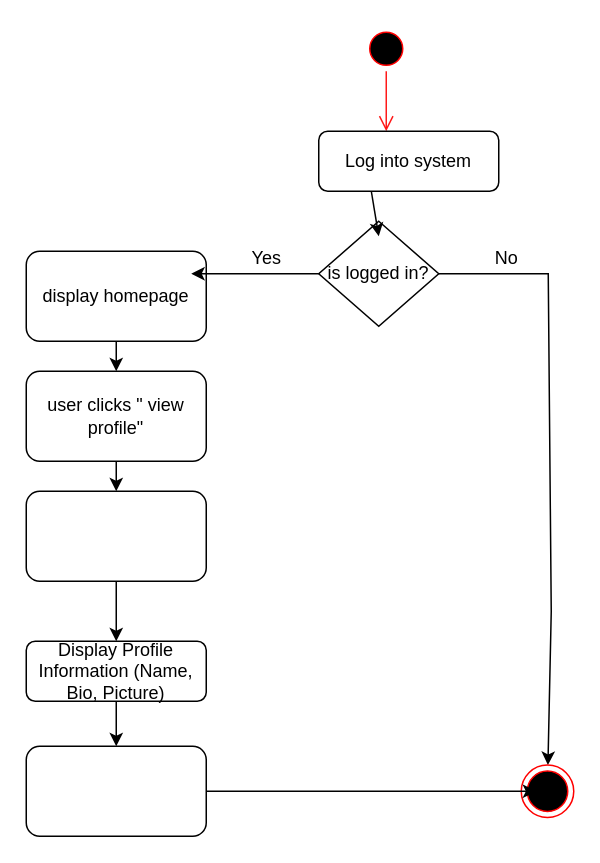
Image size: 600x863. Some labels were removed from this diagram. The shapes that lost their labels are listed below. From the top down, each one's centre as x and y in pixels, then its label:
At (115,535): "retrieve profile data from database".
At (115,790): "End Viewing Profile".
